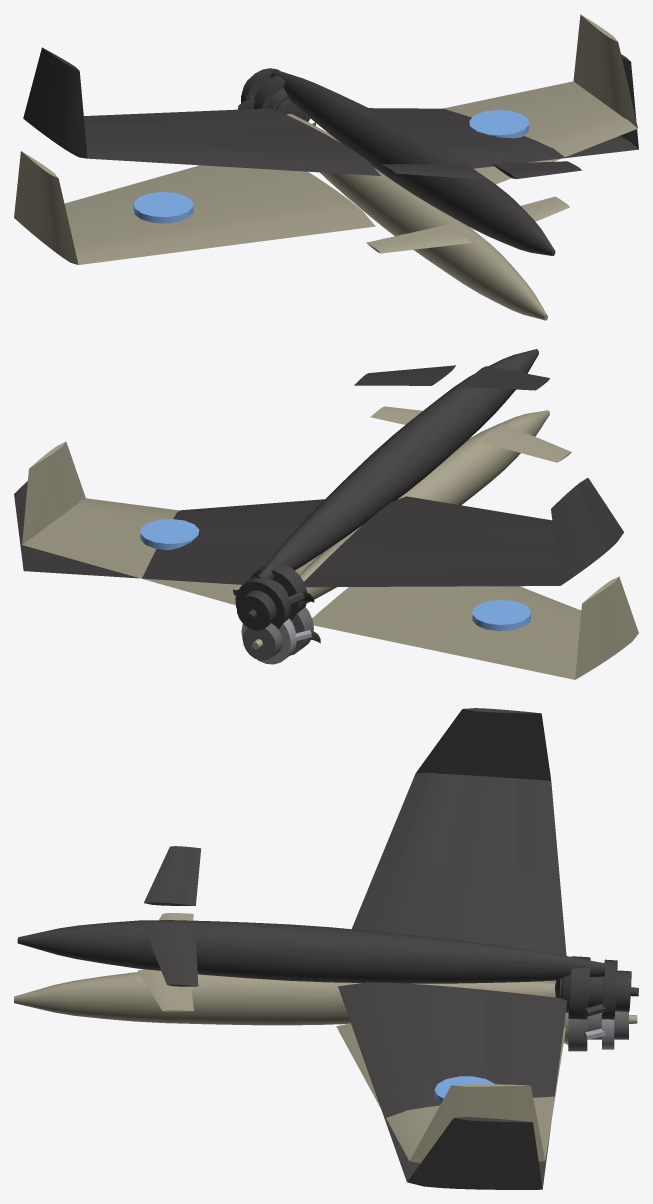
File: loiterer__qasef_2k_samad.glb
The picture shows the model from 3 angles, top to bottom: view 1: azimuth 30°, elevation 25°; view 2: azimuth 150°, elevation 25°; view 3: azimuth 270°, elevation 25°; orthographic projection. The views are drawn at different scales.
Parts seen in each view (by area): view 1: Fuselage_Mesh, Wreck; view 2: Wreck, Fuselage_Mesh, Propeller_Mesh; view 3: Wreck, Fuselage_Mesh, Propeller_Mesh.
Part boxes in pixels (left/top/right/bottom): Fuselage_Mesh: left=14, top=14, right=637, bottom=320; Wreck: left=23, top=47, right=638, bottom=255; Wreck: left=14, top=349, right=623, bottom=630; Fuselage_Mesh: left=22, top=406, right=638, bottom=679; Propeller_Mesh: left=241, top=607, right=320, bottom=664; Wreck: left=17, top=708, right=638, bottom=1189; Fuselage_Mesh: left=14, top=913, right=565, bottom=1163; Propeller_Mesh: left=563, top=1011, right=637, bottom=1051.
Size of what is drawn, in the model's own units: 3.37 by 1.1 by 2.99.
